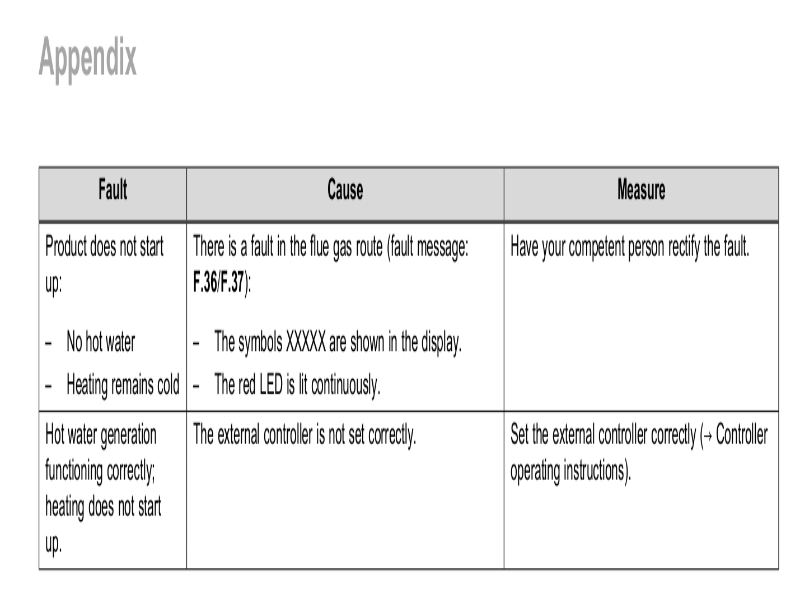border: (27, 149, 788, 578)
cell: (190, 228, 472, 403), (42, 229, 183, 402), (508, 419, 775, 490), (43, 420, 172, 561), (190, 418, 422, 453), (509, 231, 756, 261), (84, 173, 142, 204), (612, 175, 670, 204), (321, 174, 372, 203)
